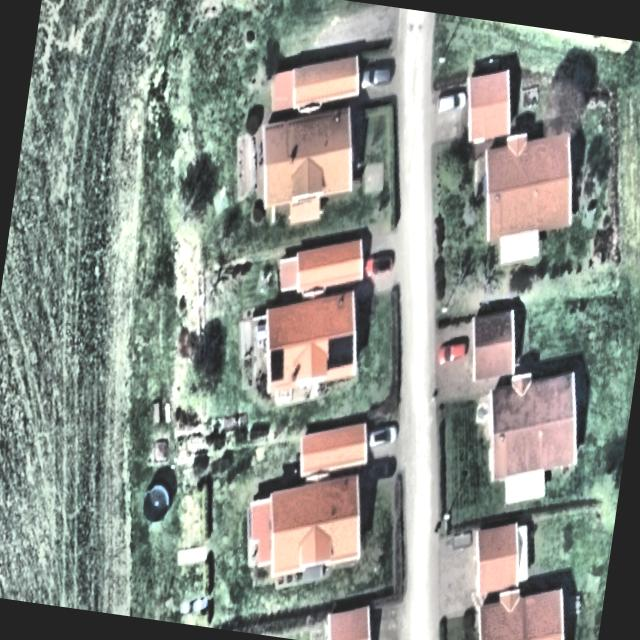roof_pv: (319, 326, 361, 375), (264, 343, 288, 389)
